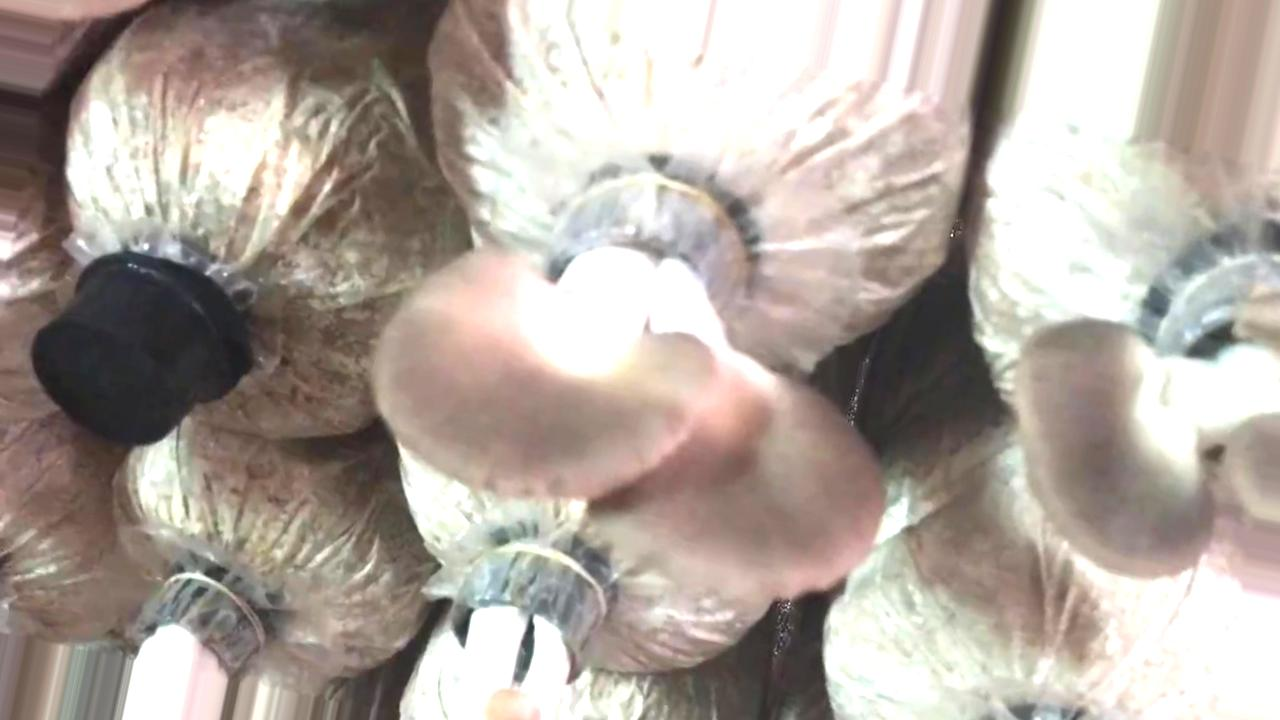nam: (367, 155, 888, 609), (1017, 257, 1280, 590)
